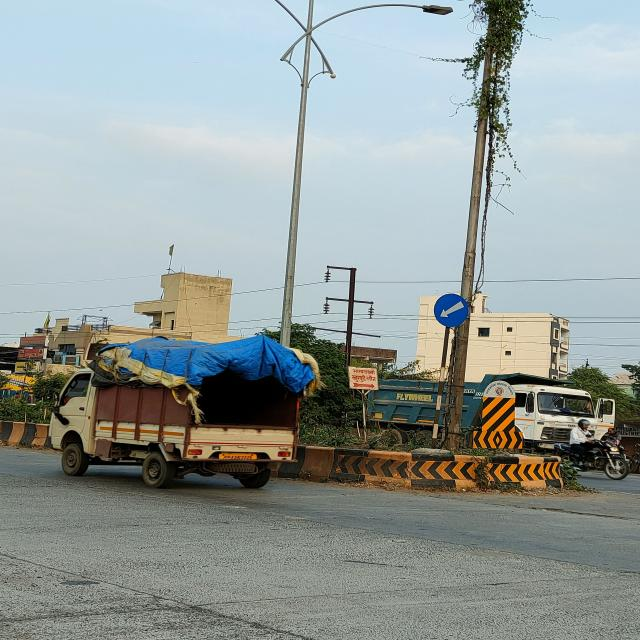compulsory_cycle_track: (432, 293, 472, 332)
